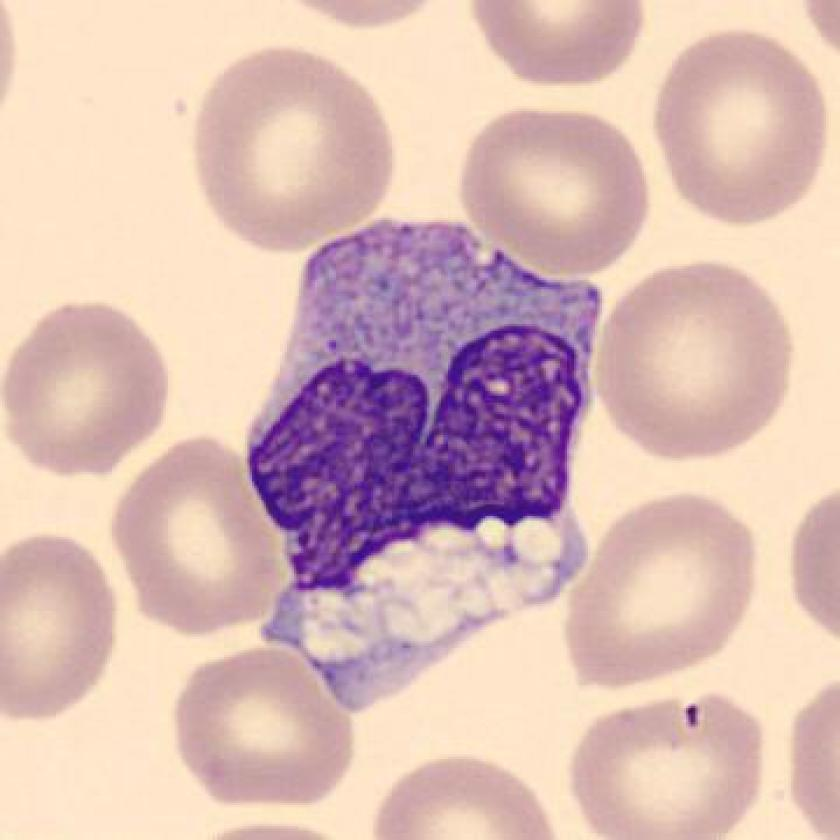monocyte: (230, 207, 619, 723)
